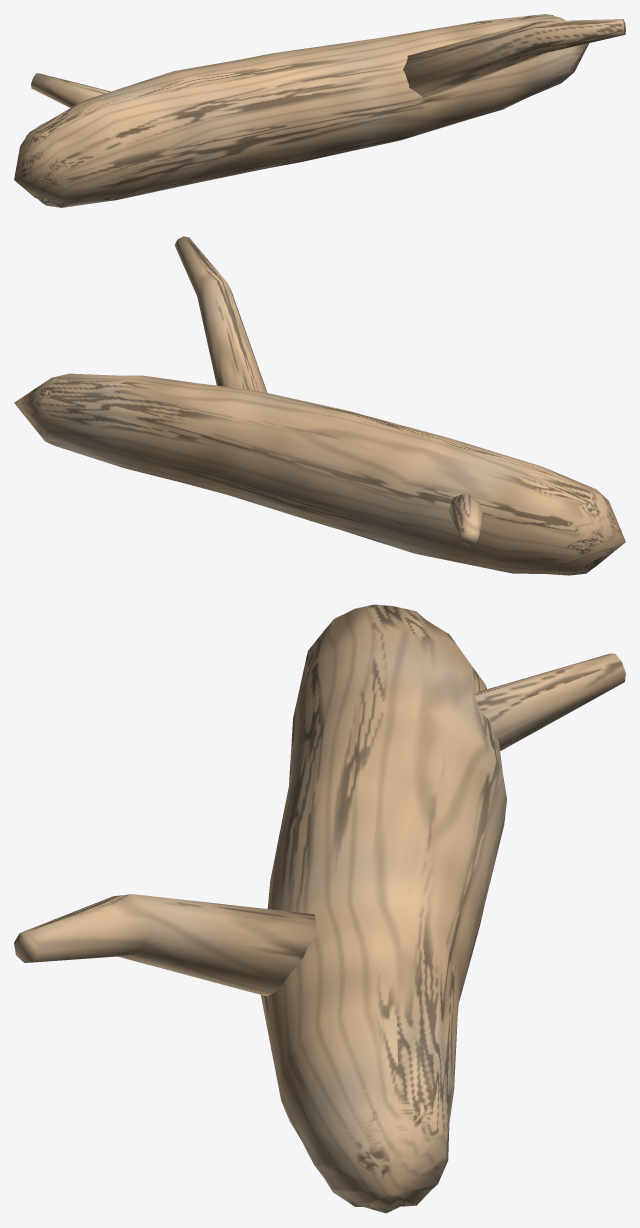
The model's file is driftwood.glb.
The picture shows the model from 3 angles, top to bottom: view 1: azimuth 30°, elevation 25°; view 2: azimuth 150°, elevation 25°; view 3: azimuth 270°, elevation 25°; orthographic projection. The views are drawn at different scales.
Visible parts, largest first — view 1: Driftwood; view 2: Driftwood; view 3: Driftwood.
Part boxes in pixels (x1=…): Driftwood: x1=14, y1=14, x2=625, y2=207; Driftwood: x1=14, y1=236, x2=625, y2=575; Driftwood: x1=14, y1=604, x2=625, y2=1213.
Bounding box in the file's own units: 1.55 × 0.3755 × 0.7461.
1 material, 1 textured.
